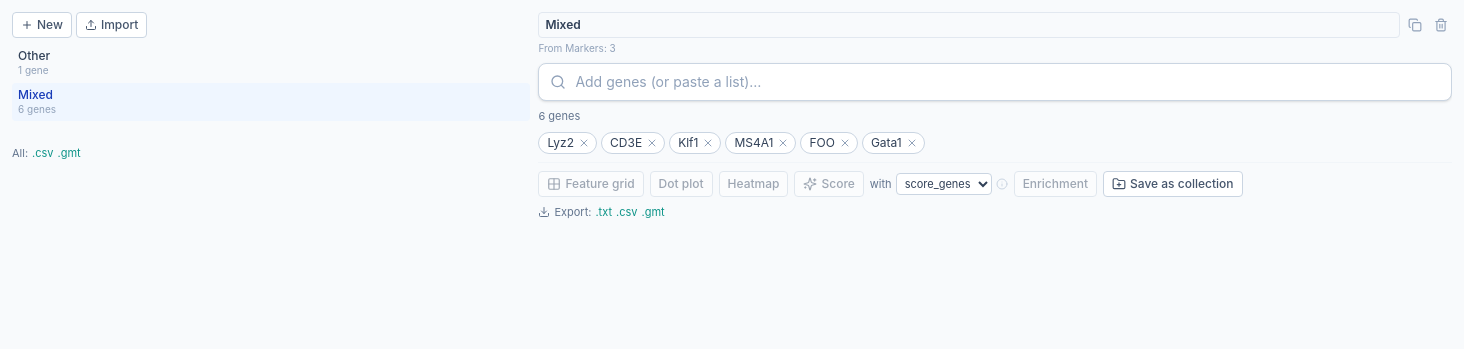
Test case: UnifiedGeneListsSubtab › saves this list or all lists as a collection, and says why one is refused
This screenshot has width=1464, height=349.
Click the button "Save as collection".
click(1173, 184)  # box [1103,171,1242,197]
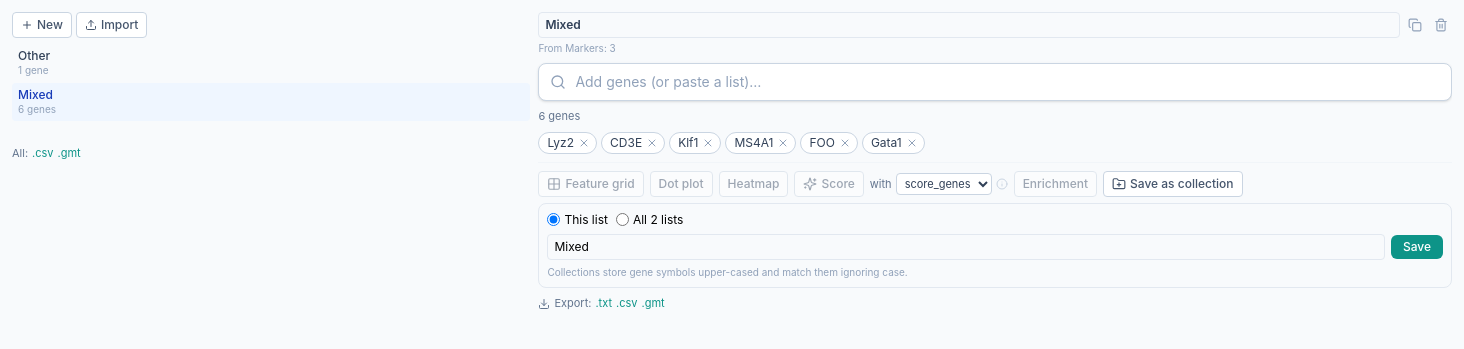
Click the button "Save".
click(1417, 247)  # box [1391,235,1443,259]
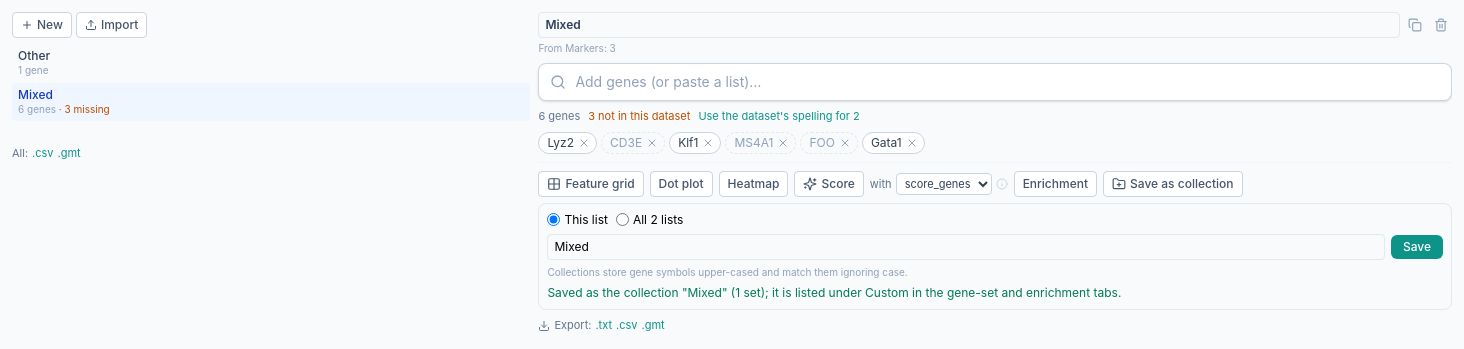
Now the text "Saved as the collection \"Mixed\" (1 set)" is shown, box [547,285,1121,300]
Click the radio button labelled "All 2 lists".
click(622, 220)  # box [616,214,629,226]
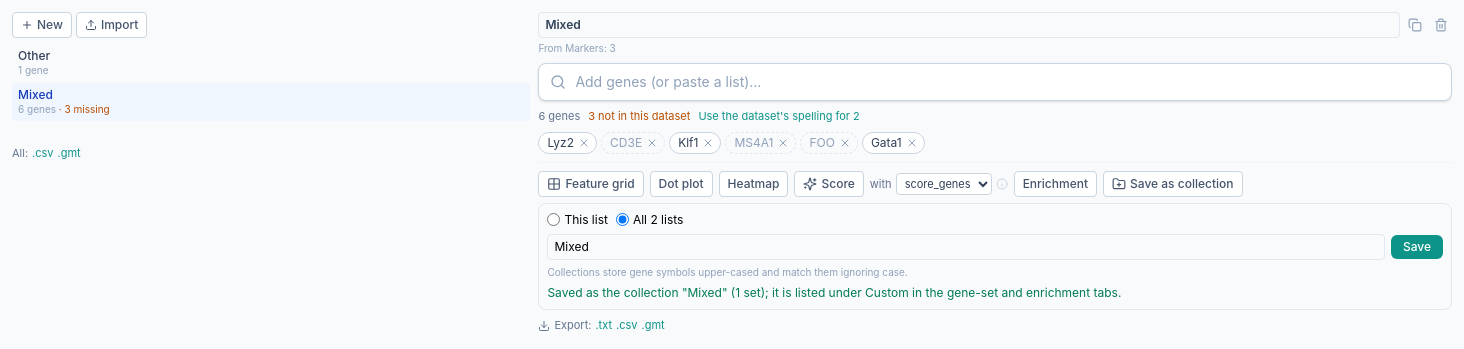
Click the button "Save".
click(1417, 247)  # box [1391,235,1443,259]
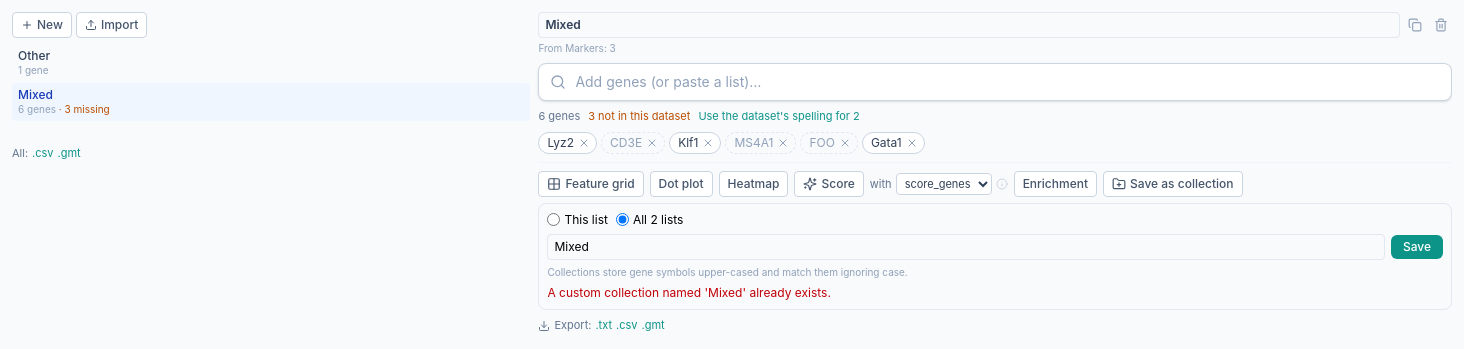
Now the message shows "already exists", box [547,285,831,300]
